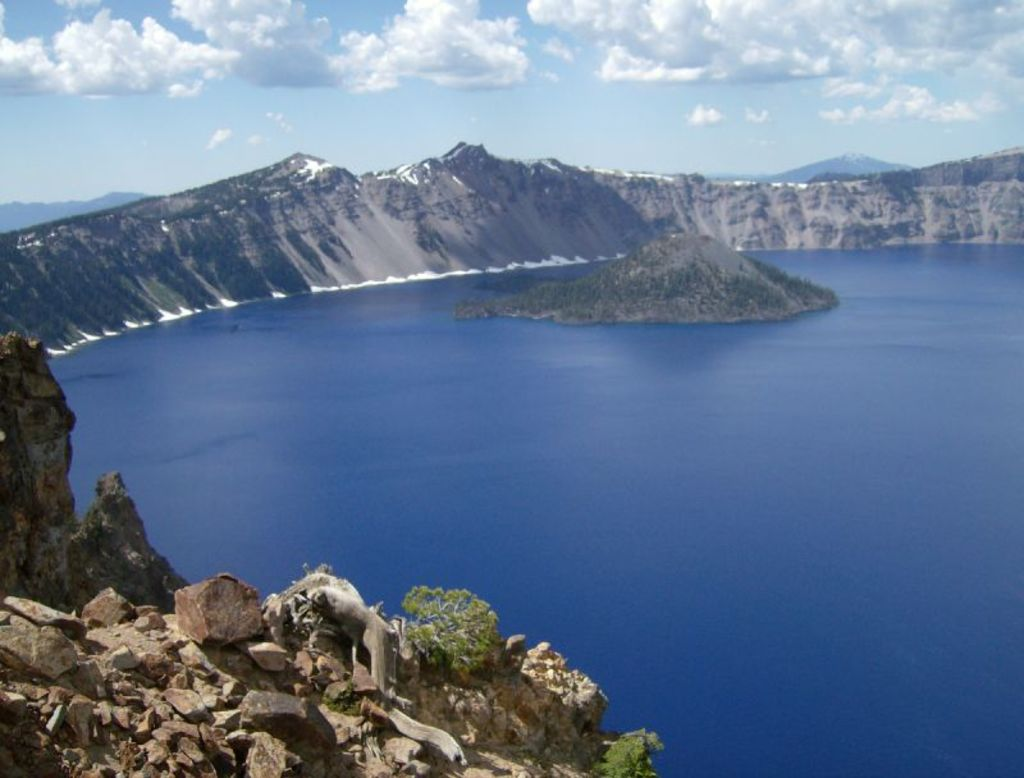Tree: (396, 577, 496, 670), (601, 730, 652, 775)
